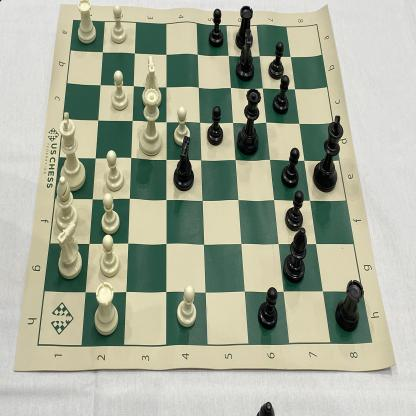black-bishop: (280, 227, 310, 284)
black-king: (311, 110, 345, 195)
black-knight: (172, 134, 196, 195), (235, 27, 256, 84)
black-pawn: (254, 284, 278, 333), (280, 145, 303, 190), (283, 188, 305, 233), (271, 72, 291, 116), (206, 5, 225, 50), (267, 38, 286, 82), (207, 103, 226, 147)
black-queen: (237, 85, 262, 159)
black-rook: (331, 277, 366, 333), (235, 3, 255, 51)
white-bishop: (52, 174, 79, 231)
white-king: (56, 111, 87, 191)
white-knight: (52, 221, 83, 281), (141, 53, 163, 106)
white-pawn: (176, 282, 199, 332), (97, 233, 121, 279), (101, 148, 126, 192), (98, 192, 121, 235), (172, 103, 192, 147), (109, 3, 129, 46), (110, 69, 130, 112)
white-queen: (138, 87, 165, 158)
white-rook: (91, 280, 119, 335), (73, 0, 98, 46)
